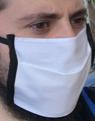with_mask: (2, 1, 95, 121)
